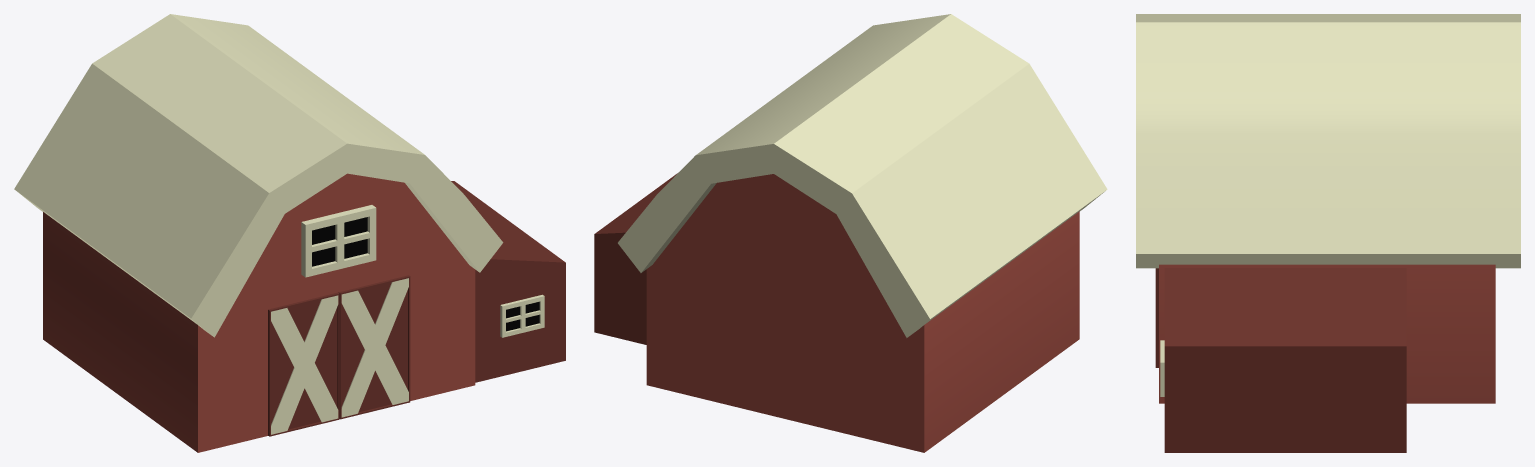
Rendered from Farm.fbx.
The picture shows the model from 3 angles, left to right: view 1: azimuth 30°, elevation 25°; view 2: azimuth 150°, elevation 25°; view 3: azimuth 270°, elevation 25°; orthographic projection. The views are drawn at different scales.
Visible parts, largest first — view 1: main_house_roof, main_house, small_house, pCube7, pCube6, pasted__pCube3, pPlane2, pPlane3, pPlane4, pPlane1, small_house_window; view 2: main_house, main_house_roof, small_house; view 3: main_house_roof, small_house, main_house, pCube7.
Boxes of the visible parts, box(x1,y1,x2,y2) form: main_house_roof: box(14, 14, 503, 337); main_house: box(43, 173, 475, 452); small_house: box(451, 181, 565, 382); pCube7: box(338, 275, 410, 419); pCube6: box(268, 292, 339, 436); pasted__pCube3: box(301, 205, 376, 277); pPlane2: box(271, 295, 338, 434); pPlane3: box(341, 290, 408, 404); pPlane4: box(341, 278, 408, 417); pPlane1: box(271, 308, 338, 422); small_house_window: box(500, 294, 544, 337); main_house: box(646, 174, 1079, 452); main_house_roof: box(618, 14, 1107, 337); small_house: box(594, 173, 677, 344); main_house_roof: box(1136, 14, 1520, 268); small_house: box(1164, 268, 1406, 452); main_house: box(1159, 264, 1495, 403); pCube7: box(1155, 268, 1158, 367).
Size of the model in its own units: 7.37 by 5.14 by 5.83.
